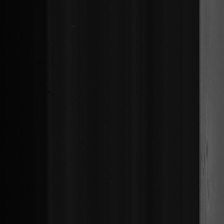silk_spot: (199, 125, 216, 204)
